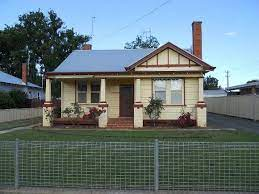Tin-shade House: (41, 34, 214, 125)
